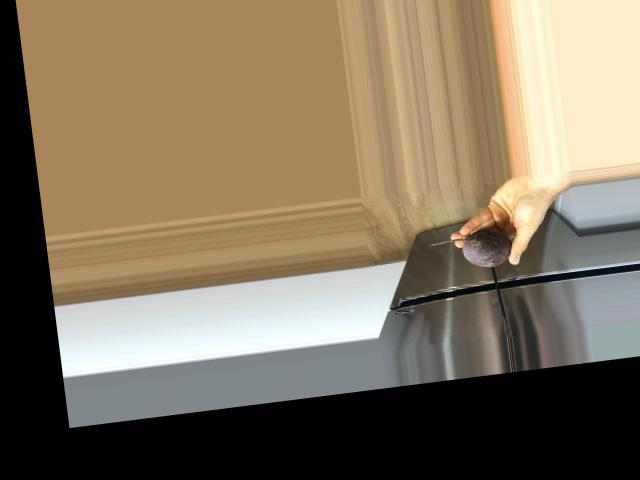beet: (428, 226, 513, 274)
